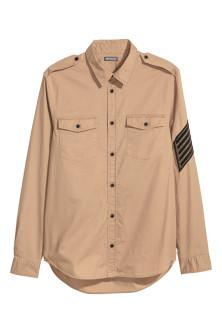teeshirt: (8, 40, 221, 296)
